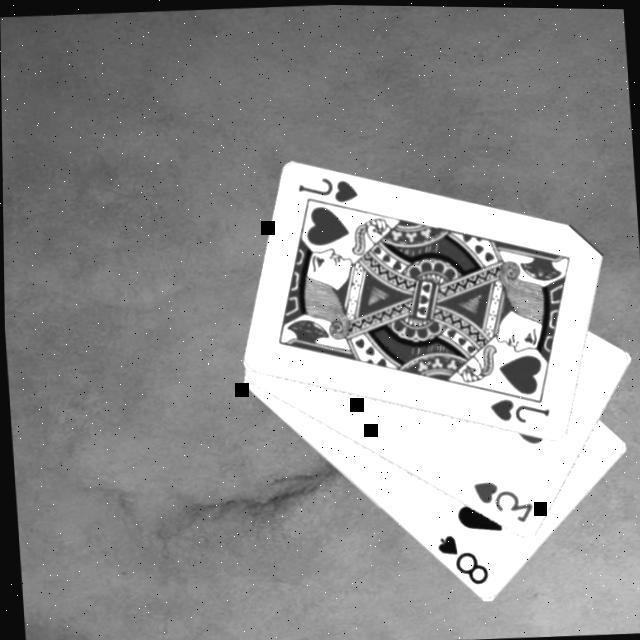3H: (466, 473, 535, 526)
8S: (430, 527, 490, 588)
JH: (484, 390, 552, 426), (292, 170, 360, 206)
